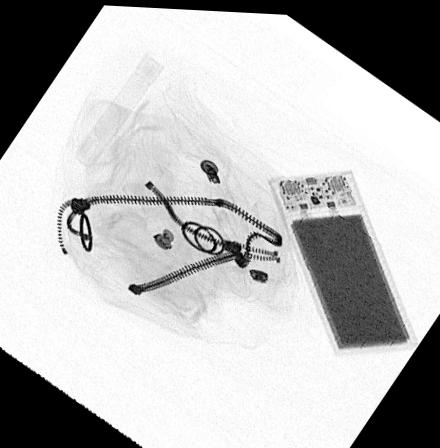Powerbank: (266, 167, 418, 354)
